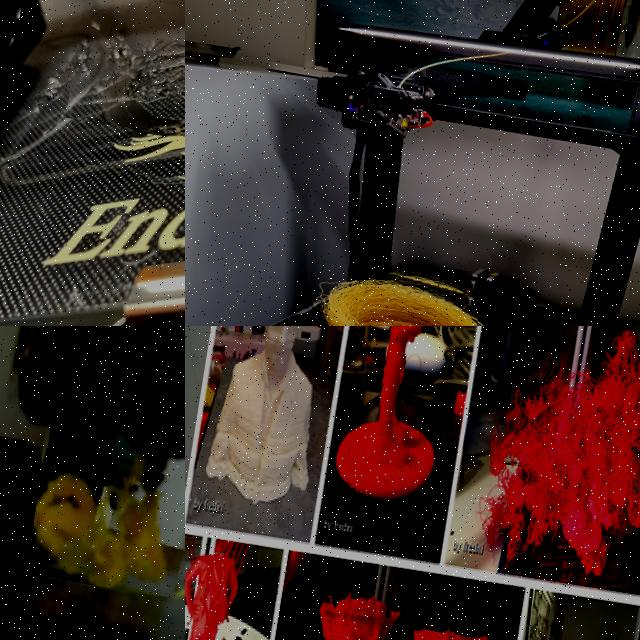spaghetti: (463, 326, 640, 583), (25, 442, 185, 599), (302, 254, 515, 326), (72, 33, 185, 136)
